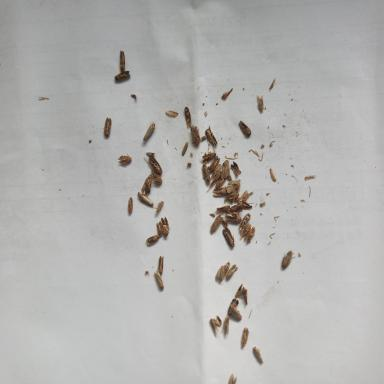pbw: (207, 171, 221, 192), (205, 129, 217, 153), (282, 250, 296, 269), (210, 214, 224, 232), (143, 122, 156, 141), (223, 227, 235, 247), (238, 120, 252, 137), (238, 214, 251, 232), (190, 125, 200, 147), (161, 216, 171, 238), (202, 163, 212, 184), (229, 304, 242, 320), (142, 176, 152, 196), (154, 270, 164, 290), (240, 224, 251, 242), (226, 263, 238, 279), (210, 318, 220, 337), (202, 152, 216, 165), (149, 170, 162, 184), (221, 160, 230, 180), (253, 346, 263, 364), (209, 156, 220, 172), (214, 266, 225, 282), (184, 107, 192, 129), (225, 212, 242, 222), (235, 284, 248, 297), (139, 194, 153, 206), (241, 327, 249, 348), (118, 154, 132, 166), (214, 177, 228, 189), (146, 234, 160, 246), (211, 164, 222, 179), (213, 185, 227, 196), (237, 201, 254, 210), (221, 316, 229, 335), (115, 71, 130, 81), (222, 261, 230, 279), (104, 117, 111, 137), (119, 50, 125, 73), (215, 204, 230, 213), (257, 95, 264, 114), (242, 191, 254, 202), (158, 255, 164, 275), (247, 226, 255, 241), (156, 220, 162, 237), (243, 286, 248, 306), (229, 205, 243, 212), (156, 201, 164, 213), (128, 196, 133, 213)
